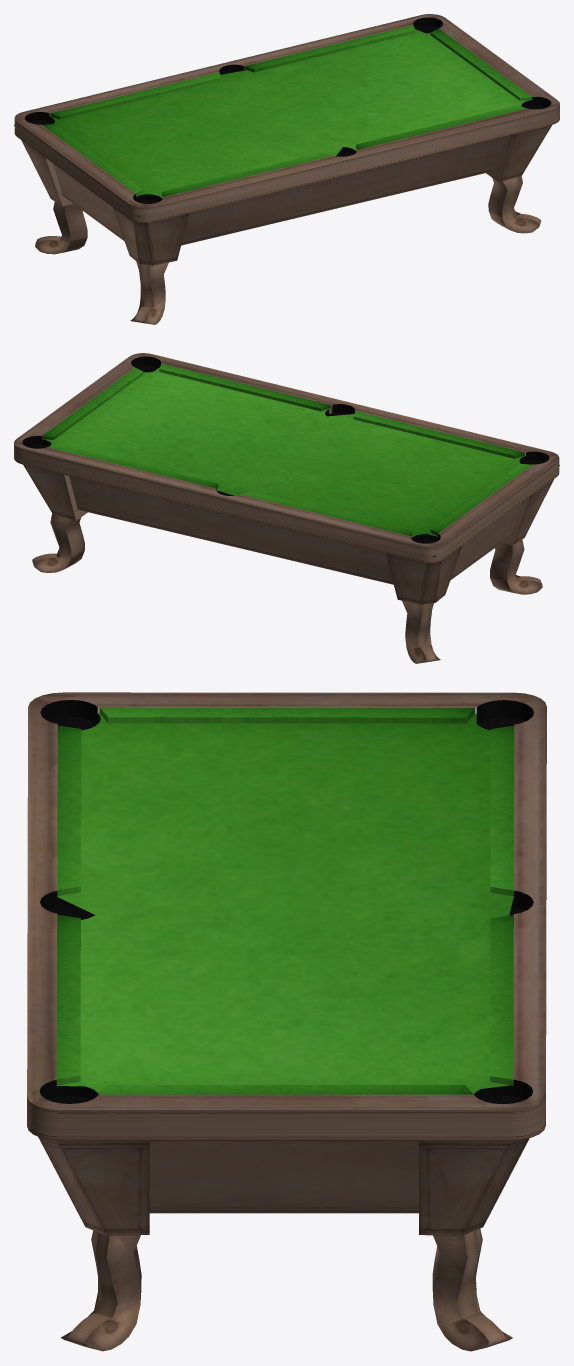
Rendered from table pool6.fbx.
3 views of the same model, one above another, from view 1: azimuth 30°, elevation 25°; view 2: azimuth 150°, elevation 25°; view 3: azimuth 270°, elevation 25° (orthographic). The views are drawn at different scales.
Visible parts, largest first — view 1: polySurface417; view 2: polySurface417; view 3: polySurface417.
Part boxes in pixels (x1,y1,x2,y2): polySurface417: (14,14,559,324); polySurface417: (14,353,559,663); polySurface417: (27,692,546,1351).
Size of the model in its own units: 11.77 by 3.35 by 6.19.
